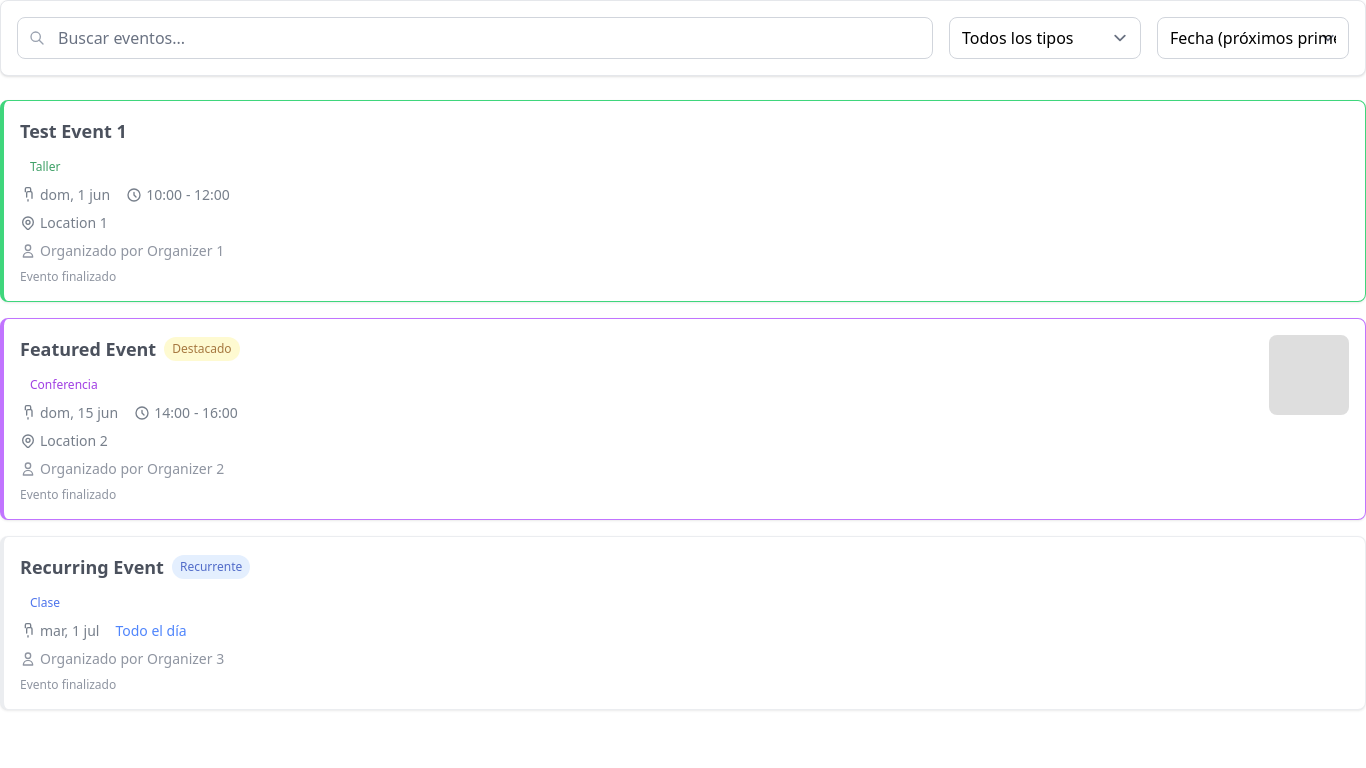
Scenario: EventList › Search and Filter › should clear search and show all events
The image size is (1366, 768).
Type "Featured" into the field with placeholder "Buscar eventos..." at {"x": 475, "y": 38}, box [17, 17, 933, 59]
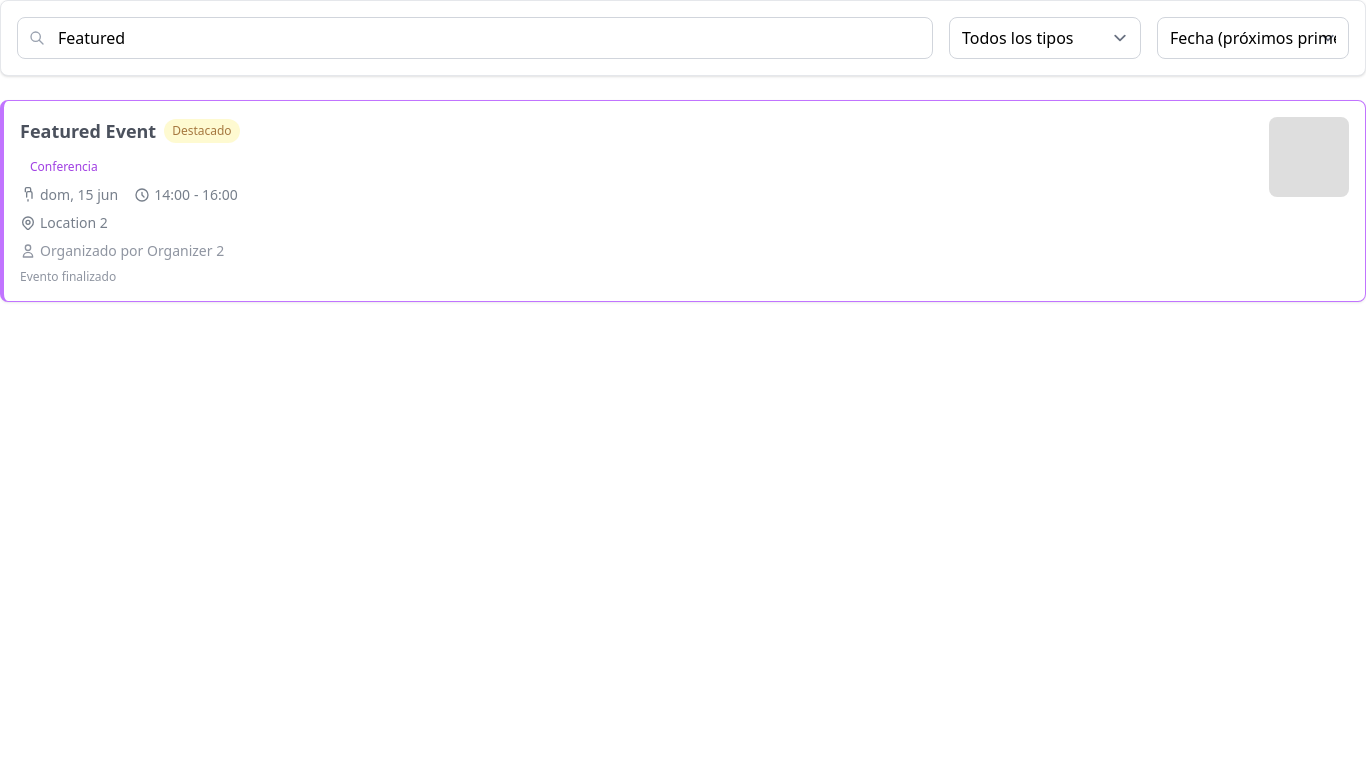
Result: the button "Test Event 1" is gone
Clear the field with placeholder "Buscar eventos..." at {"x": 475, "y": 38}, box [17, 17, 933, 59]
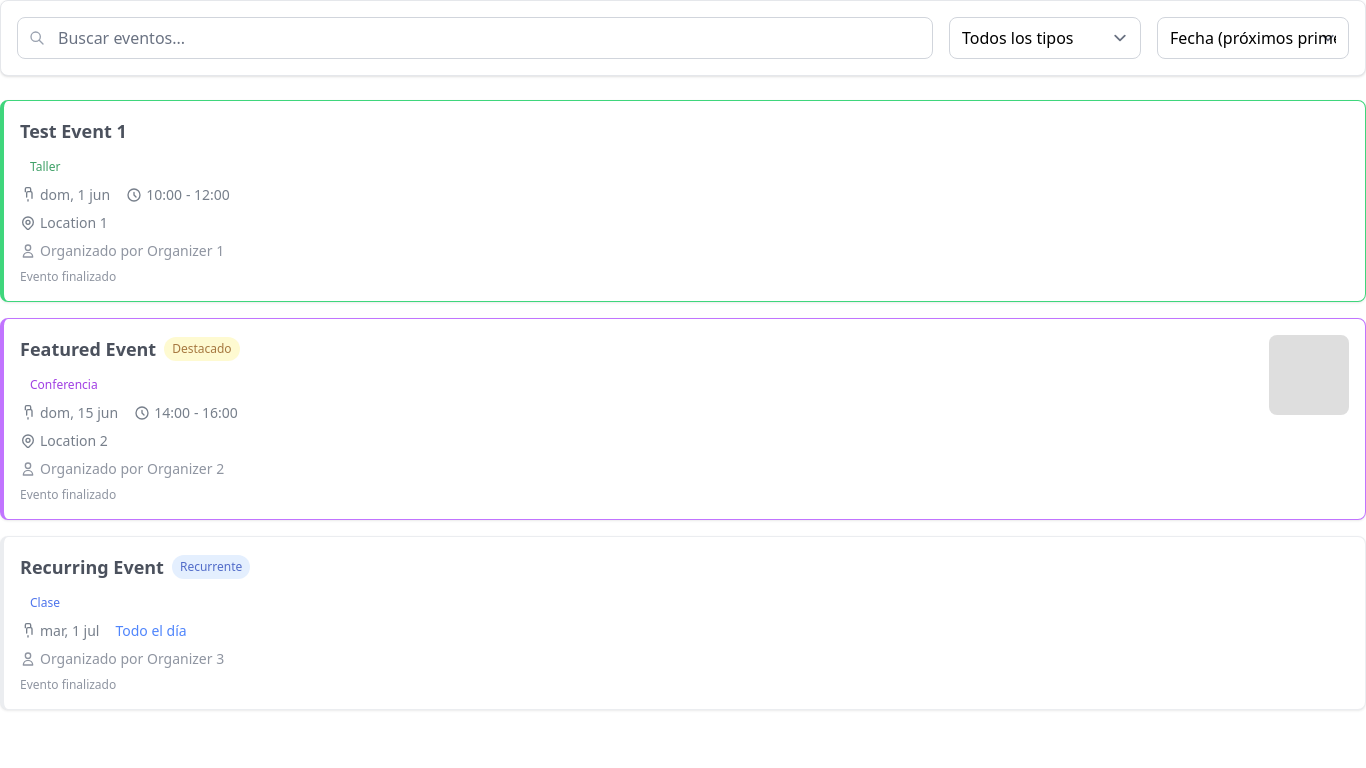
Result: the heading "Test Event 1" is shown at [20, 117, 127, 145]
